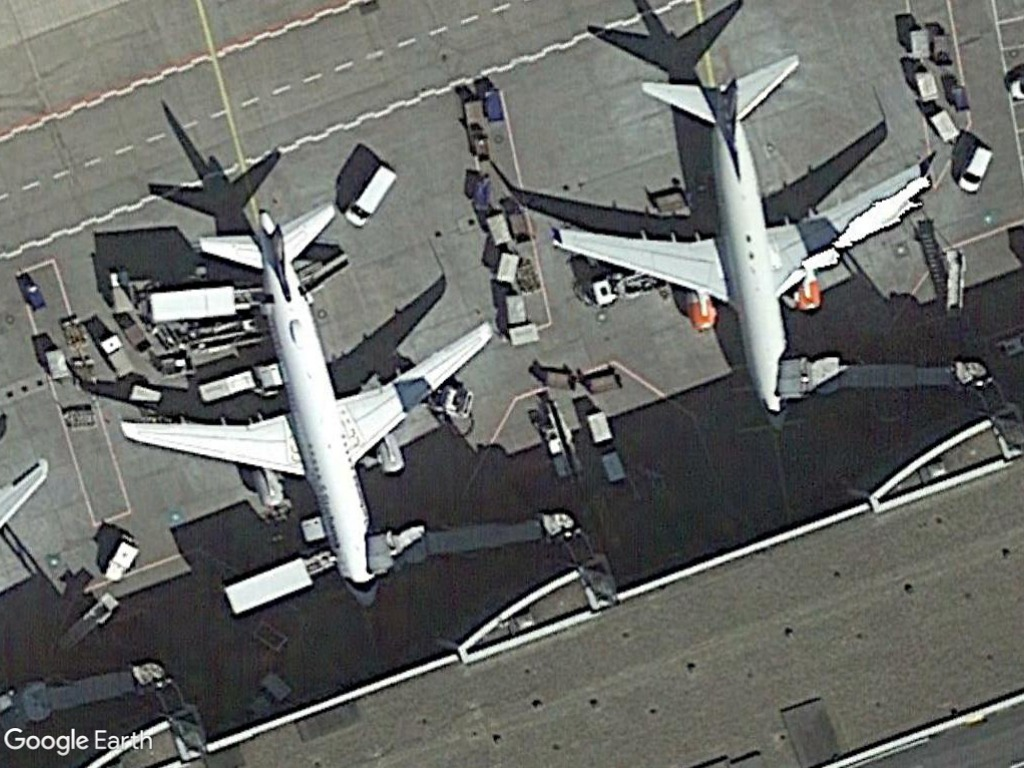airliner: (117, 201, 500, 612), (546, 47, 946, 439)
van: (341, 160, 396, 229), (952, 140, 994, 195)
